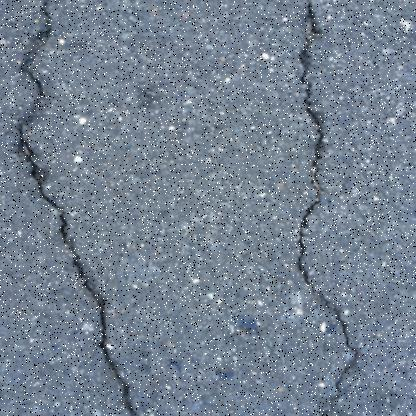Cracks: (5, 0, 142, 415), (281, 0, 368, 415)
